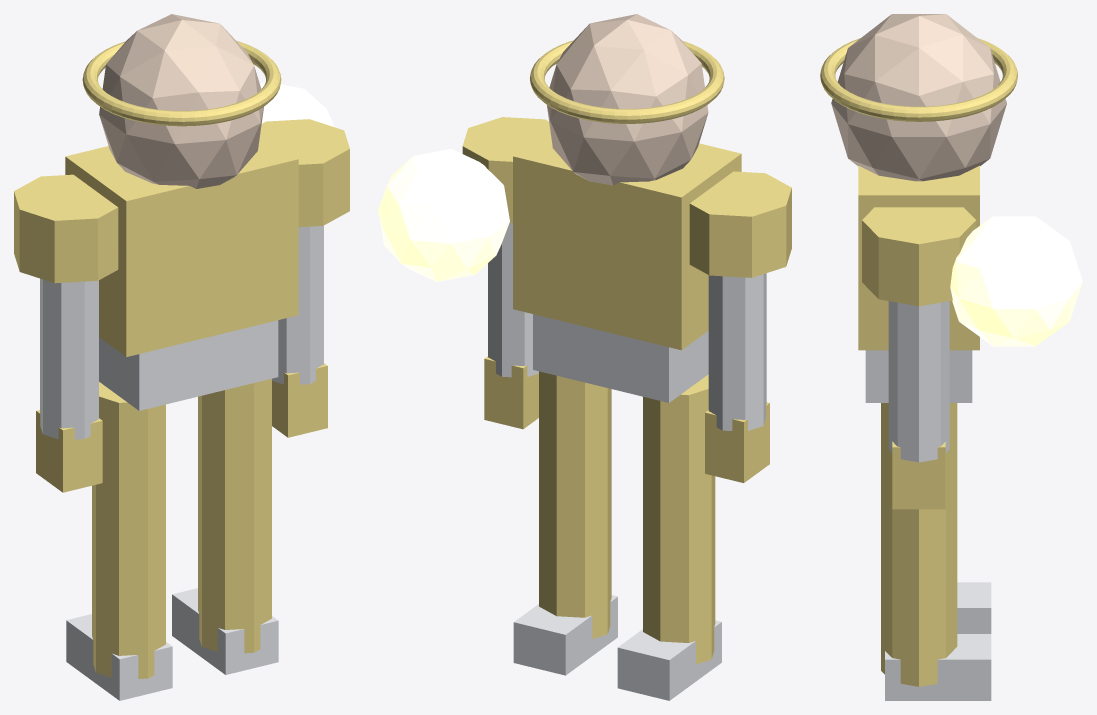
The model's file is hero_lumina.glb.
3 renders of one model, left to right at view 1: azimuth 30°, elevation 25°; view 2: azimuth 150°, elevation 25°; view 3: azimuth 270°, elevation 25°, orthographic. The views are drawn at different scales.
Visible parts, largest first — view 1: Cube, Icosphere, Cylinder.004, Cylinder.005, Cube.001, Cylinder, Cylinder.002, Cylinder.001, Cylinder.003, Torus, Cube.004, Cube.005 (+3 smaller); view 2: Cube, Icosphere, Cylinder.004, Cylinder.005, Icosphere.001, Cylinder, Cube.001, Cylinder.002, Cube.005, Cube.004, Torus, Cylinder.003 (+3 smaller); view 3: Icosphere, Cylinder.005, Icosphere.001, Cylinder.003, Cylinder.001, Cube, Cube.005, Torus, Cube.003, Cube.001, Cube.004.
Part boxes in pixels (<box>): Cube: <box>65,132,298,356</box>; Icosphere: <box>99,14,263,188</box>; Cylinder.004: <box>92,382,165,678</box>; Cylinder.005: <box>198,378,271,653</box>; Cube.001: <box>99,320,278,410</box>; Cylinder: <box>14,174,118,283</box>; Cylinder.002: <box>40,278,98,439</box>; Cylinder.001: <box>260,119,349,227</box>; Cylinder.003: <box>272,225,323,384</box>; Torus: <box>82,41,281,126</box>; Cube.004: <box>66,614,172,700</box>; Cube.005: <box>172,588,278,674</box>; Cube: <box>513,129,741,350</box>; Icosphere: <box>547,14,708,185</box>; Cylinder.004: <box>643,374,715,664</box>; Cylinder.005: <box>539,371,611,638</box>; Icosphere.001: <box>378,149,509,281</box>; Cylinder: <box>689,171,791,277</box>; Cube.001: <box>533,314,708,402</box>; Cylinder.002: <box>708,273,766,430</box>; Cube.005: <box>513,595,617,675</box>; Cube.004: <box>617,620,721,700</box>; Torus: <box>530,40,724,123</box>; Cylinder.003: <box>488,223,538,377</box>; Icosphere: <box>831,14,1006,181</box>; Cylinder.005: <box>881,403,957,686</box>; Icosphere.001: <box>950,216,1082,346</box>; Cylinder.003: <box>888,301,949,462</box>; Cylinder.001: <box>862,207,976,306</box>; Cube: <box>858,165,979,350</box>; Cube.005: <box>885,634,991,700</box>; Torus: <box>820,38,1017,121</box>; Cube.003: <box>892,441,945,509</box>; Cube.001: <box>865,350,972,402</box>; Cube.004: <box>957,582,991,633</box>.
Bounding box in the file's own units: 1.08 × 1.87 × 0.69.
